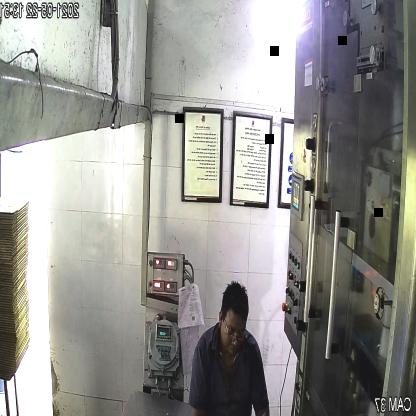goggles: (223, 321, 247, 347)
